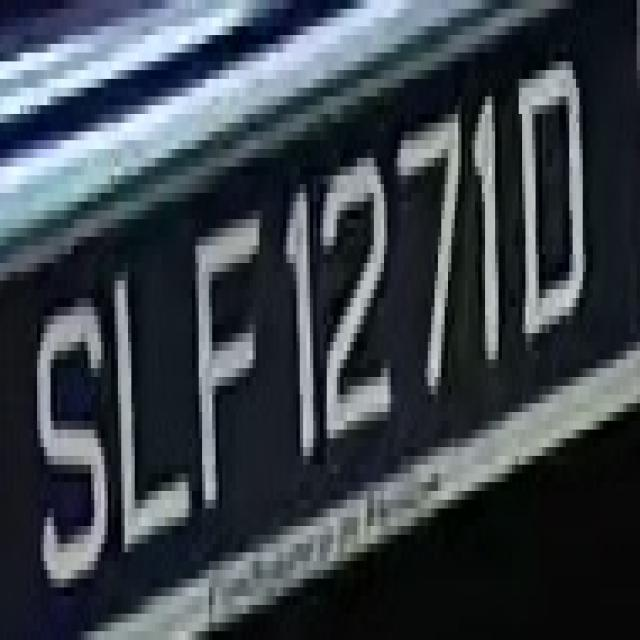1: (276, 167, 327, 491), (465, 96, 512, 412)
2: (316, 149, 401, 473)
7: (387, 88, 475, 447)
D: (516, 44, 590, 351)
F: (189, 184, 266, 552)
L: (111, 263, 196, 570)
S: (30, 263, 108, 587)
